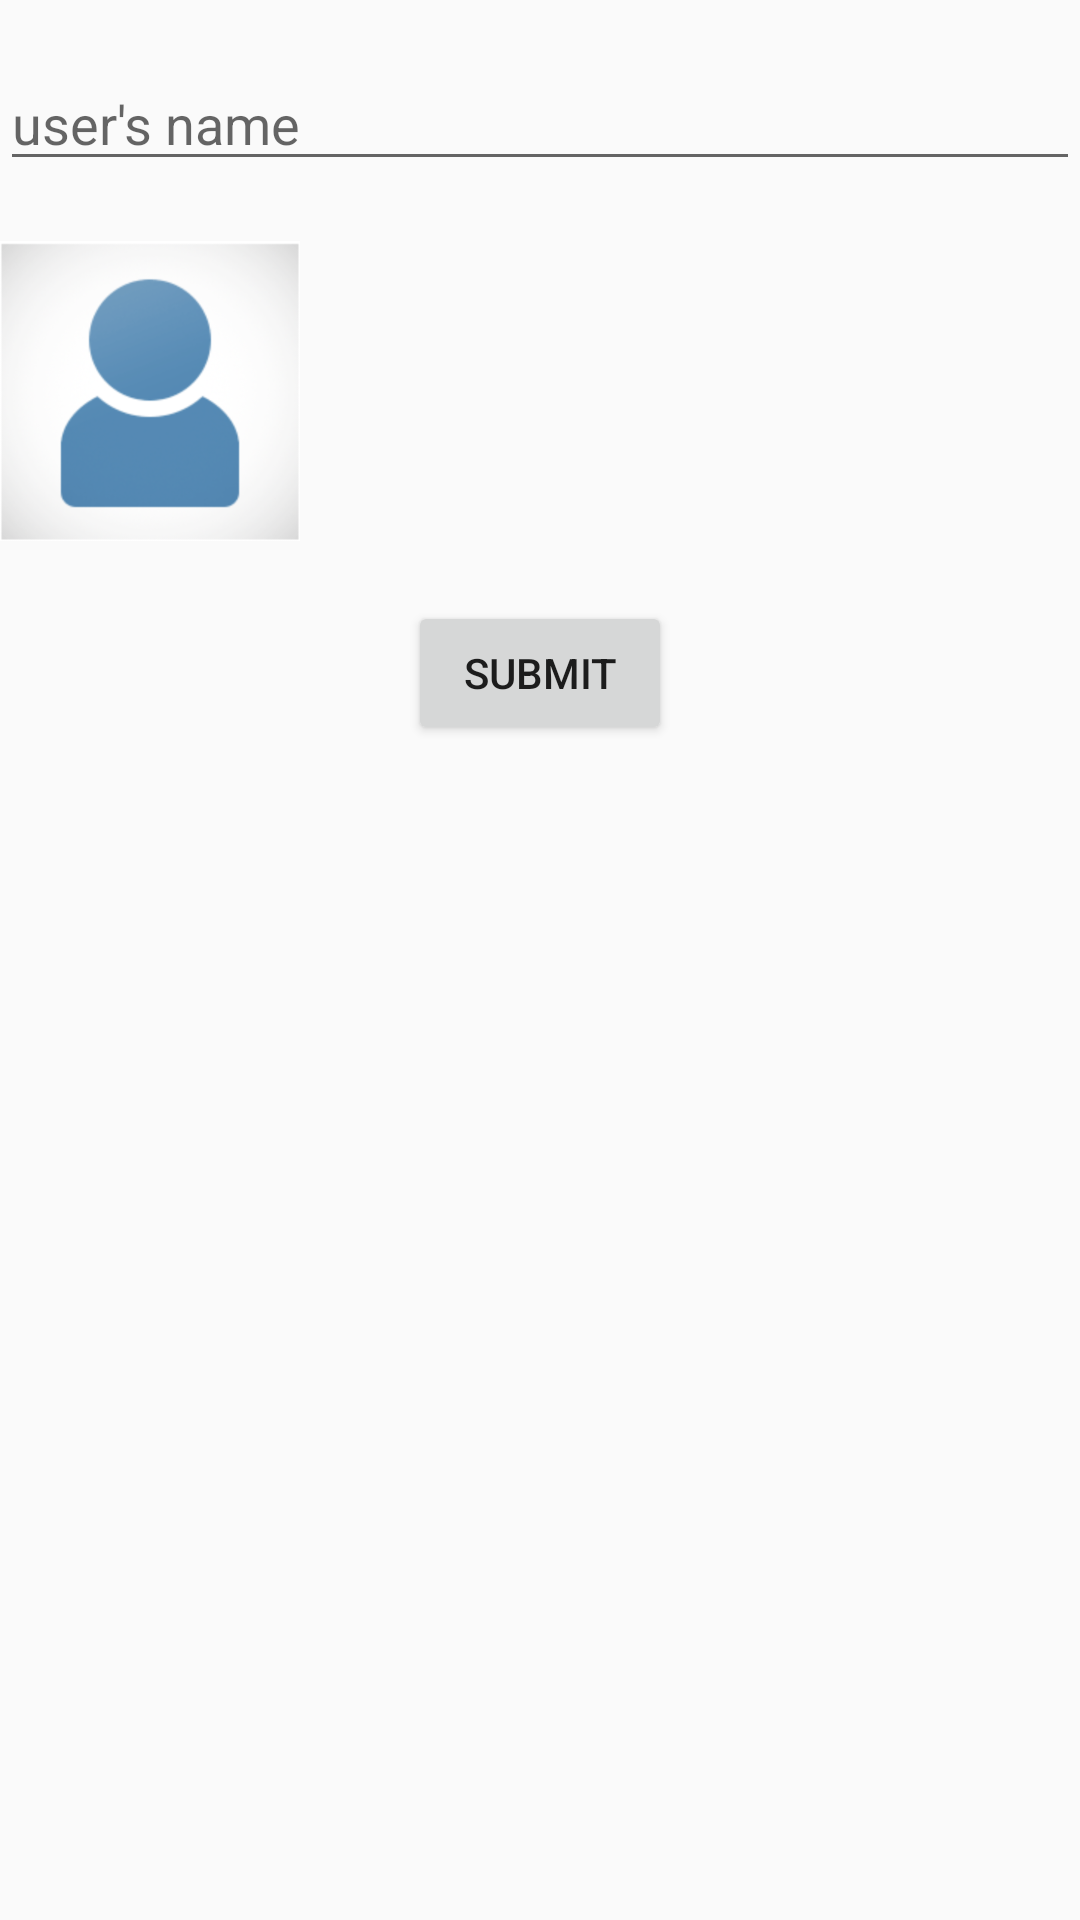

Named icons in this screenshot (1080*1920) and their centers, point (x, y):
profile: point (150, 391)
